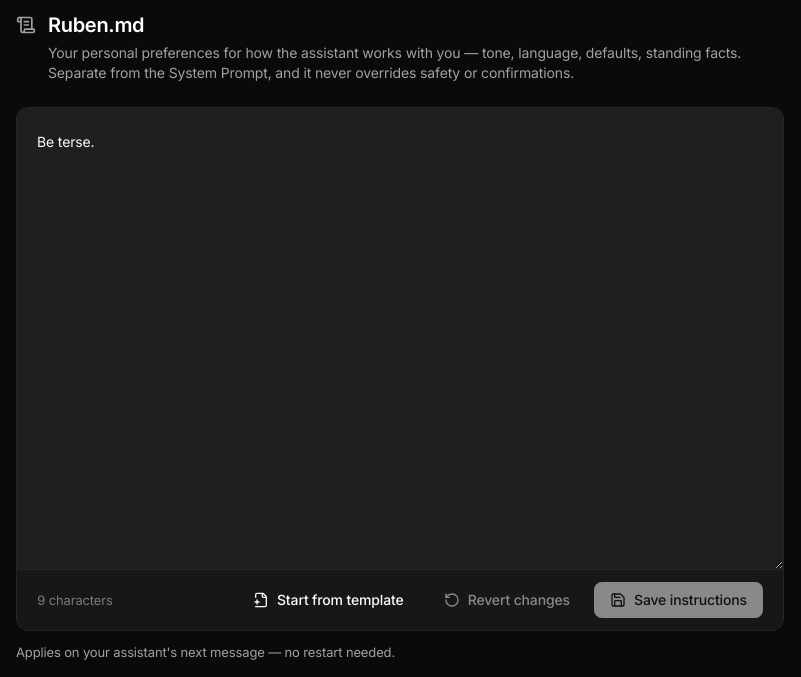
Test: AgentInstructionsView › reverts unsaved changes without deleting the saved instructions
The image size is (801, 677).
Replace the text in the text box with test id "agent-instructions-editor" with "Changed then regret" at [400, 338], box [17,108,783,569]
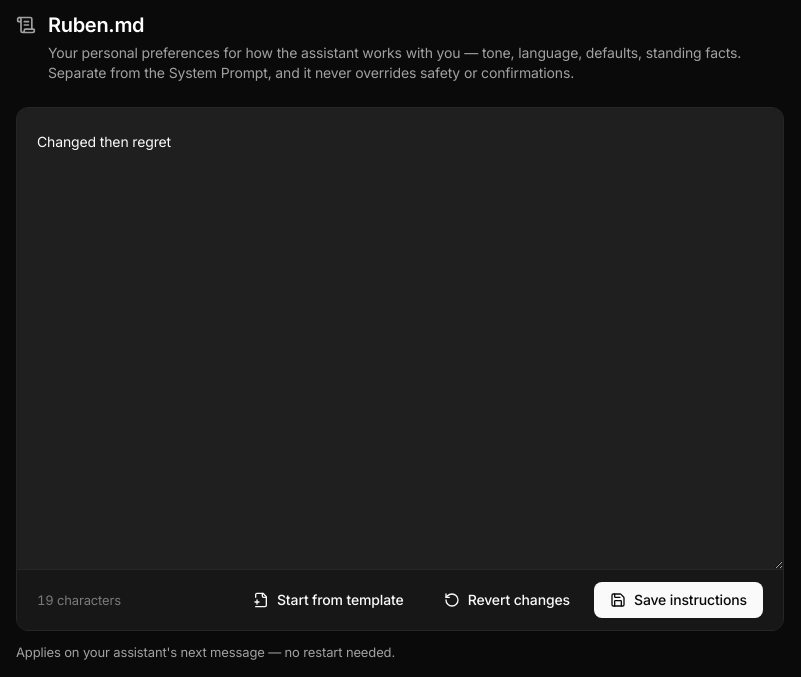
Click the button "Revert changes" at [507, 600], box [428,582,586,618]
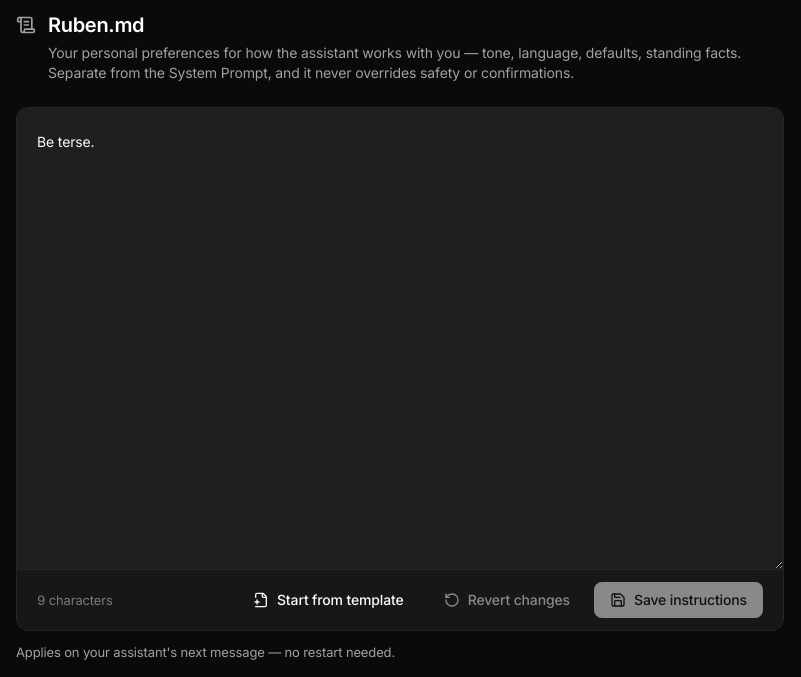
Now the text box with test id "agent-instructions-editor" holds "Be terse."
